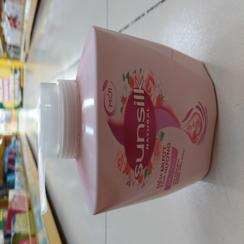sunsilk pink: (30, 23, 216, 219)
